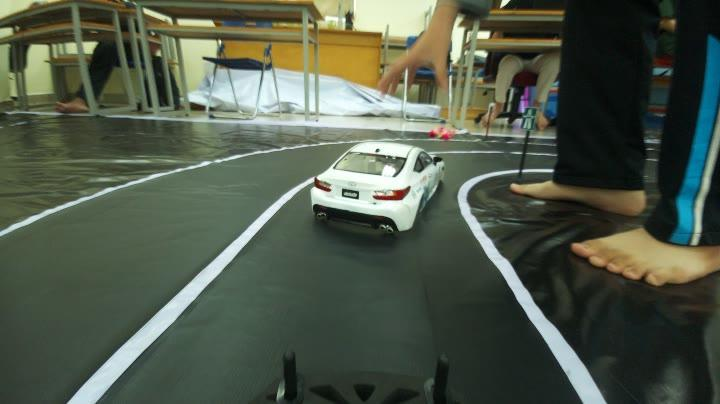car: (310, 120, 450, 246)
highway_entry: (516, 98, 540, 136)
